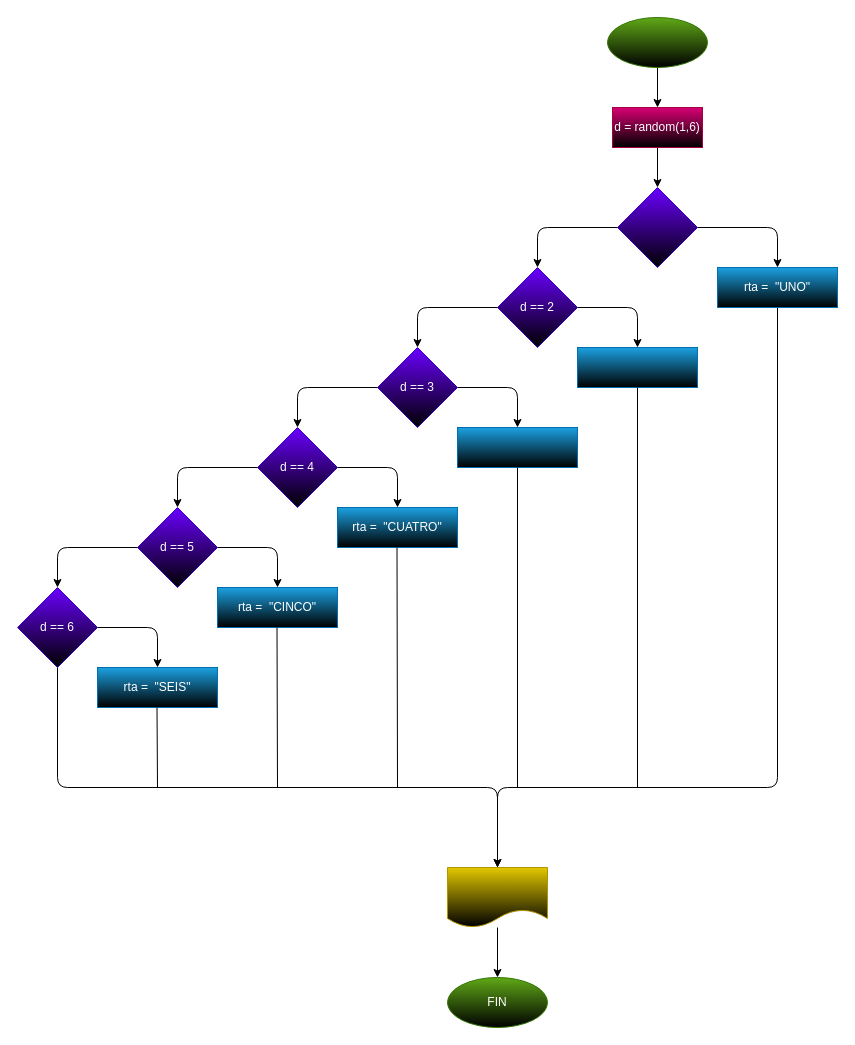
This 855x1045 diagram has some shape labels left out. The shapes that lost their labels are listed below. From the top down, each one's box as (x1, y1, x2, y2) in pixels, then its label:
(606, 16, 708, 68): INICIO
(616, 186, 698, 268): d == 1
(576, 346, 698, 388): rta = "DOS"
(456, 426, 578, 468): rta = "TRES"
(446, 866, 548, 928): el dado cayo en +rta
